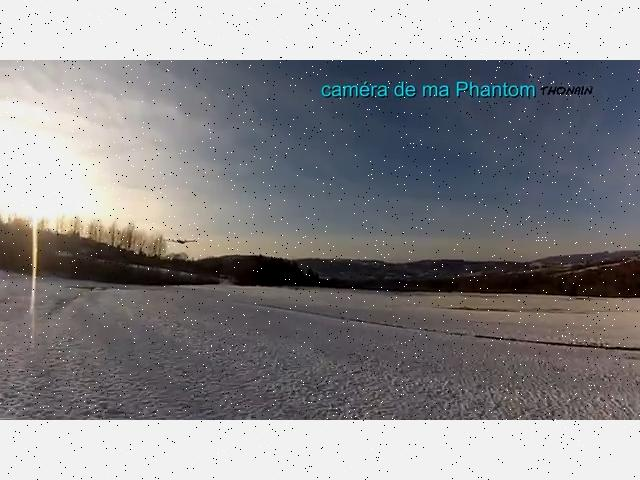Anti-Drone: (162, 239, 196, 244)
